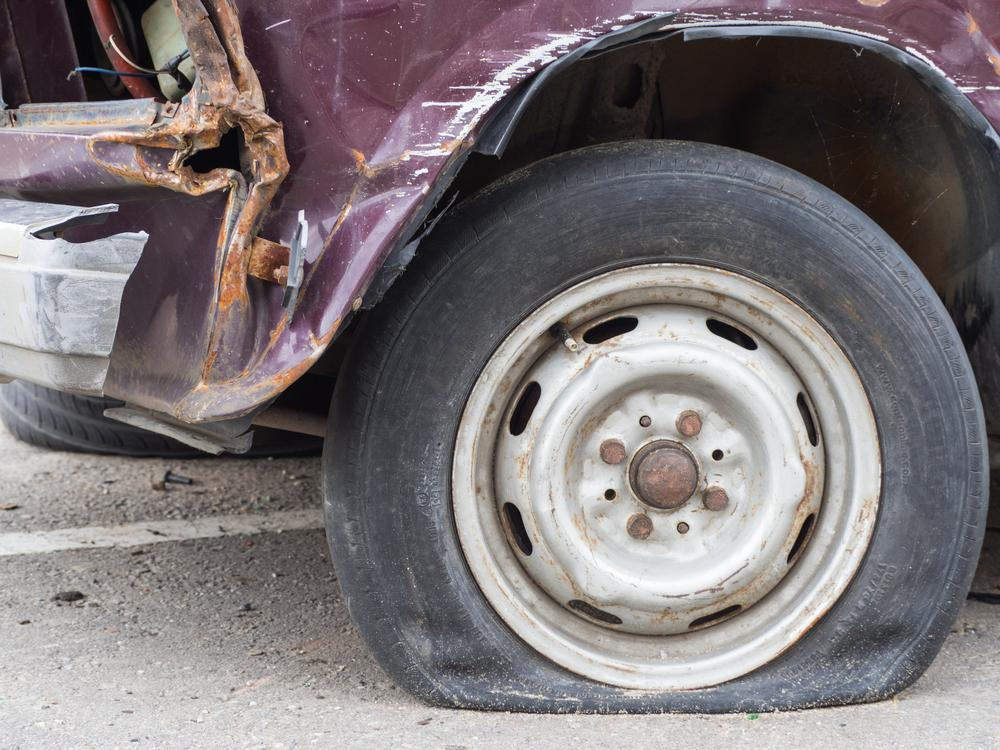dent: (187, 2, 537, 420)
tire flat: (321, 139, 988, 714)
